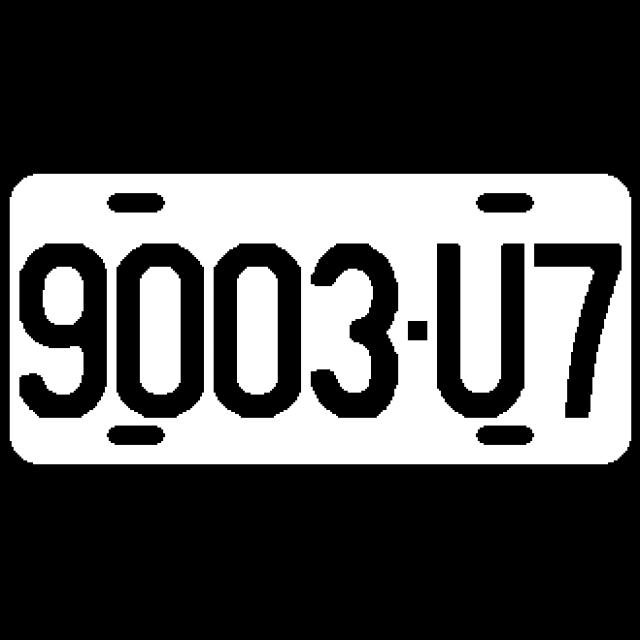plate: (8, 171, 634, 469)
